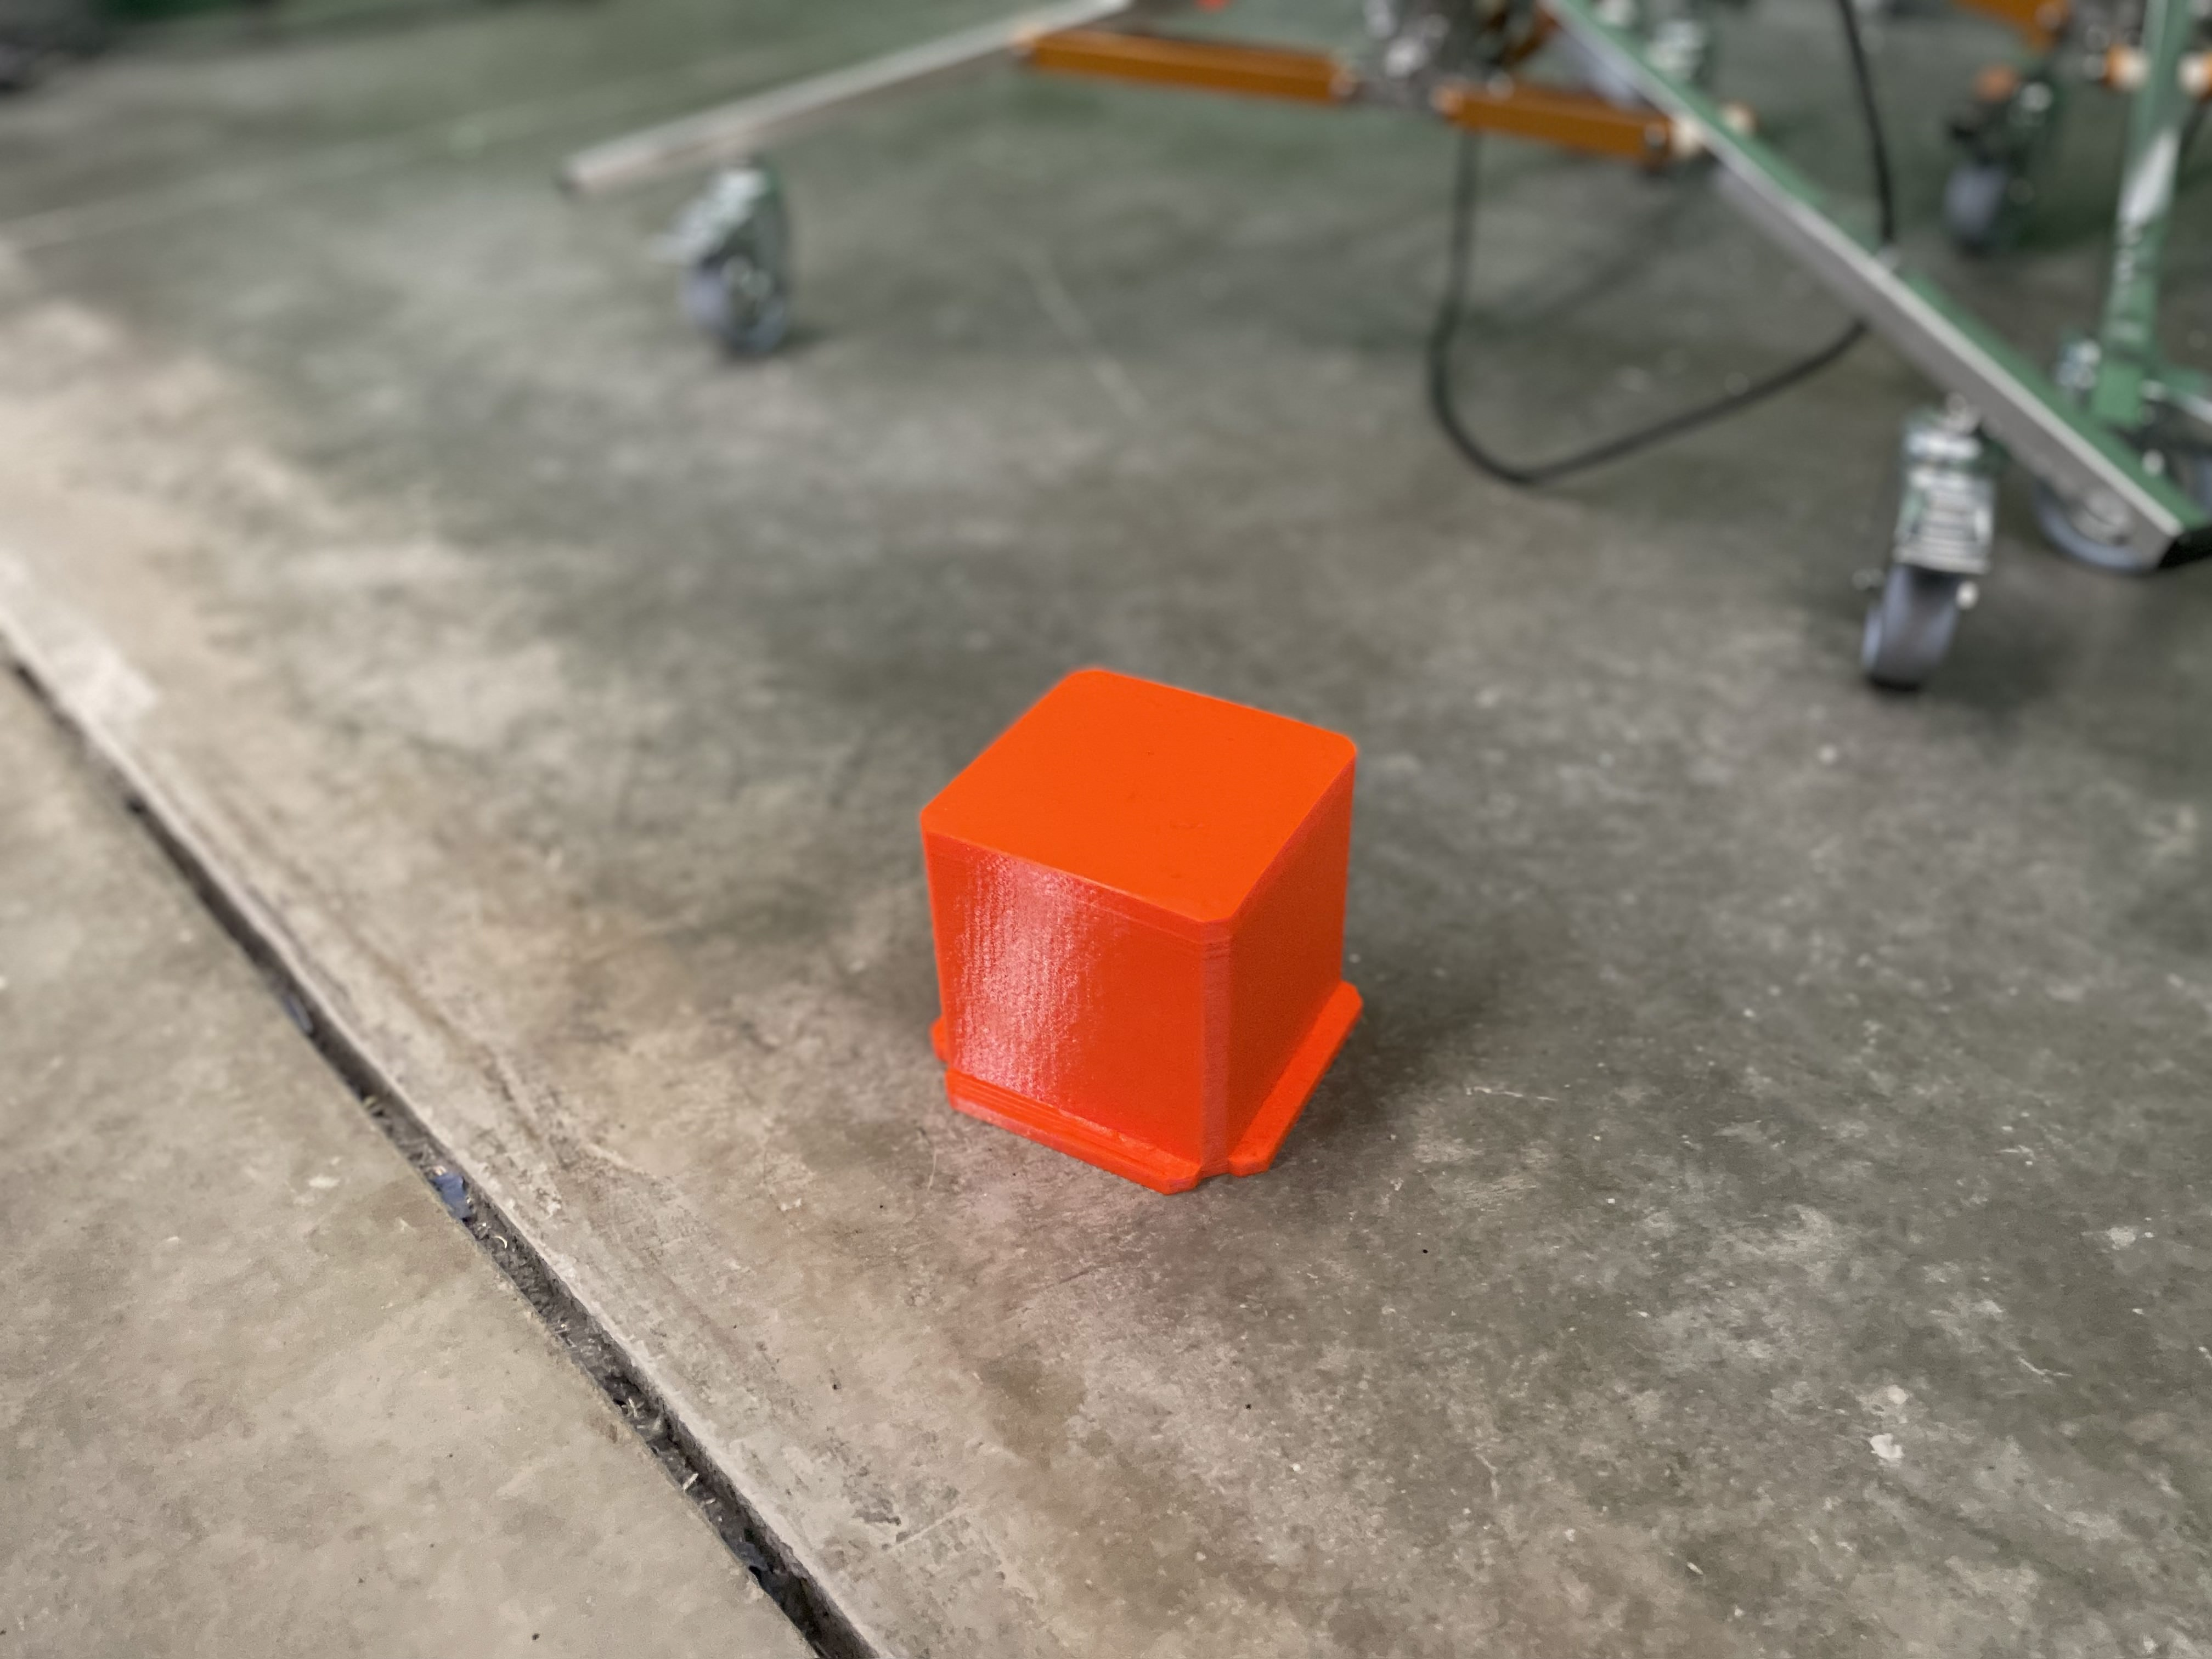payload1: (902, 648, 1390, 1236)
